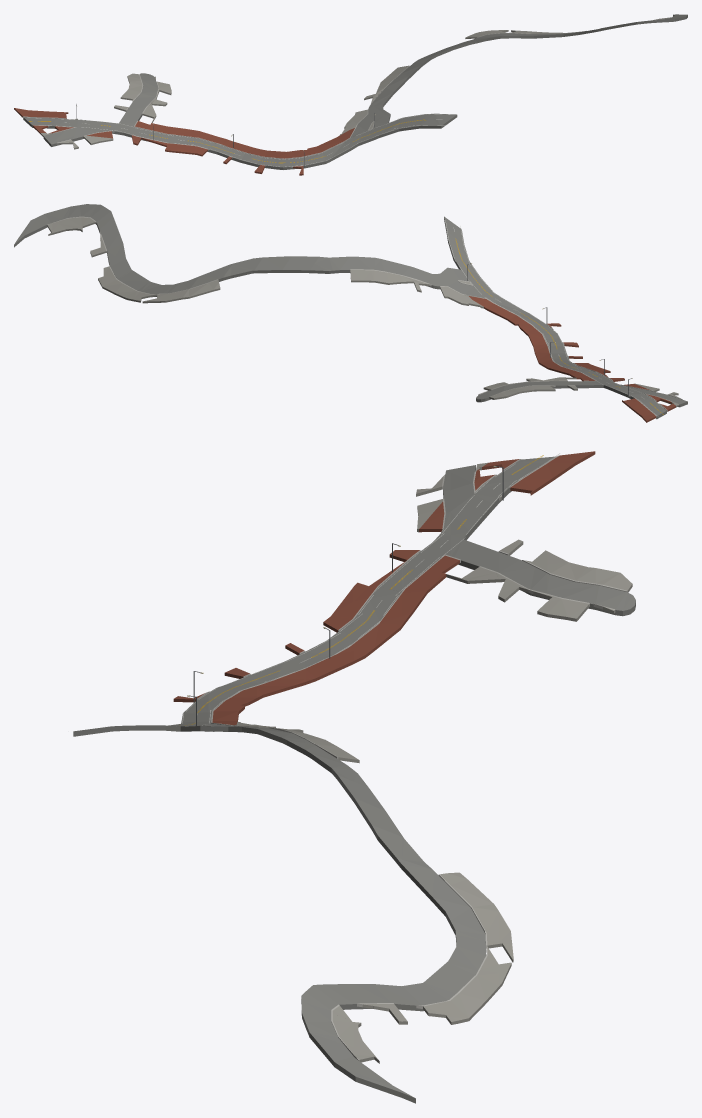
The model's file is 17-109453-59465.dda78f70.glb.
3 views of the same model, one above another, from view 1: azimuth 30°, elevation 25°; view 2: azimuth 150°, elevation 25°; view 3: azimuth 270°, elevation 25° (orthographic). The views are drawn at different scales.
Size of the model in its own units: 295 by 22.9 by 118.
